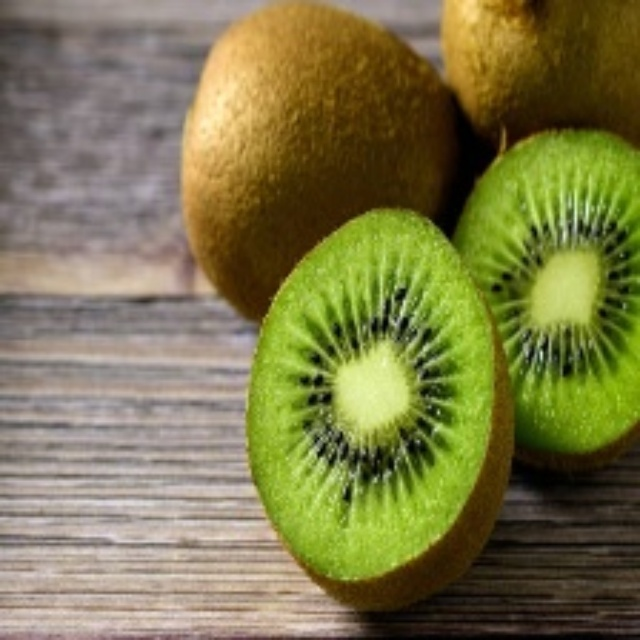kiwi: (235, 209, 515, 614), (187, 7, 446, 318), (464, 111, 639, 461), (439, 1, 639, 149)
